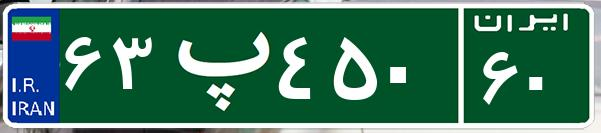0: (385, 28, 445, 110), (525, 38, 570, 115)
3: (110, 28, 158, 105)
4: (273, 28, 330, 110)
5: (330, 28, 385, 110)
6: (57, 26, 110, 107), (475, 38, 525, 113)
پ: (158, 15, 273, 115)
